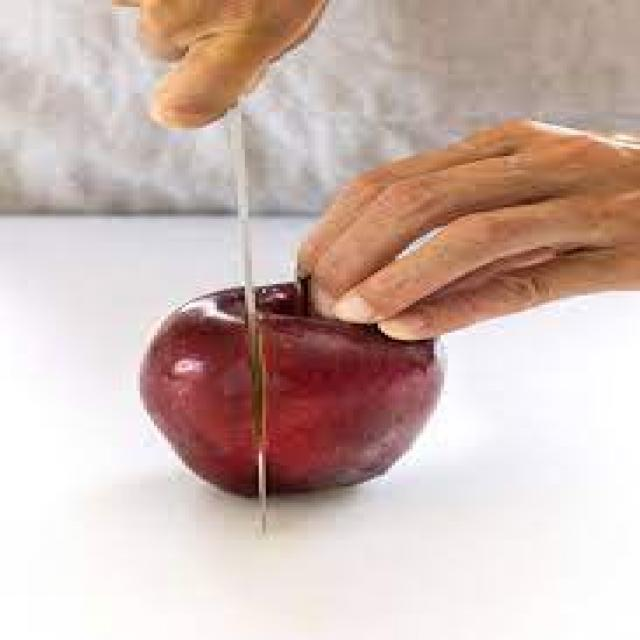Apple: (140, 287, 445, 497)
